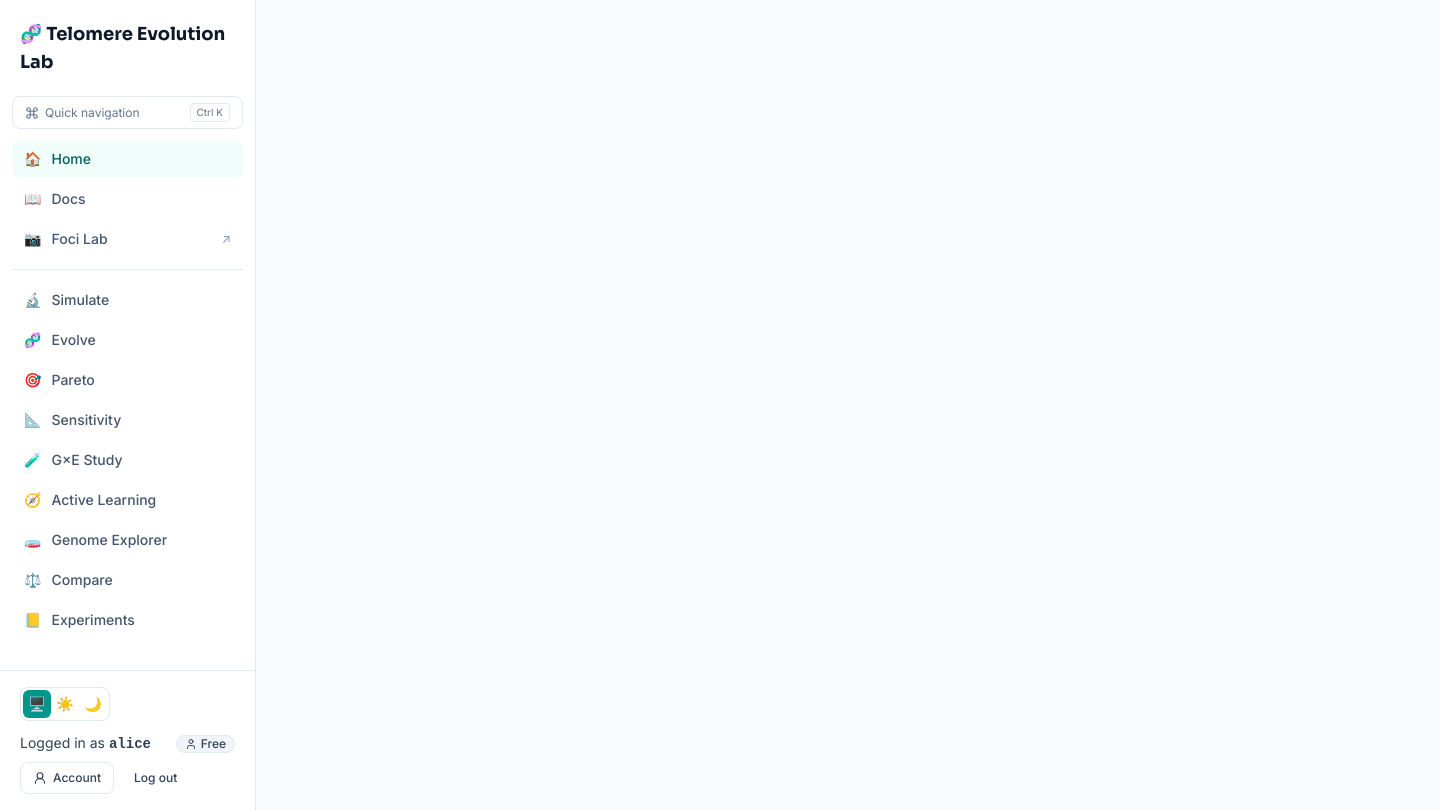
it: command palette › does not list admin entries for ordinary users
The image size is (1440, 810).
Expected: the link "Account" is shown, [20,762,114,794]
Press k
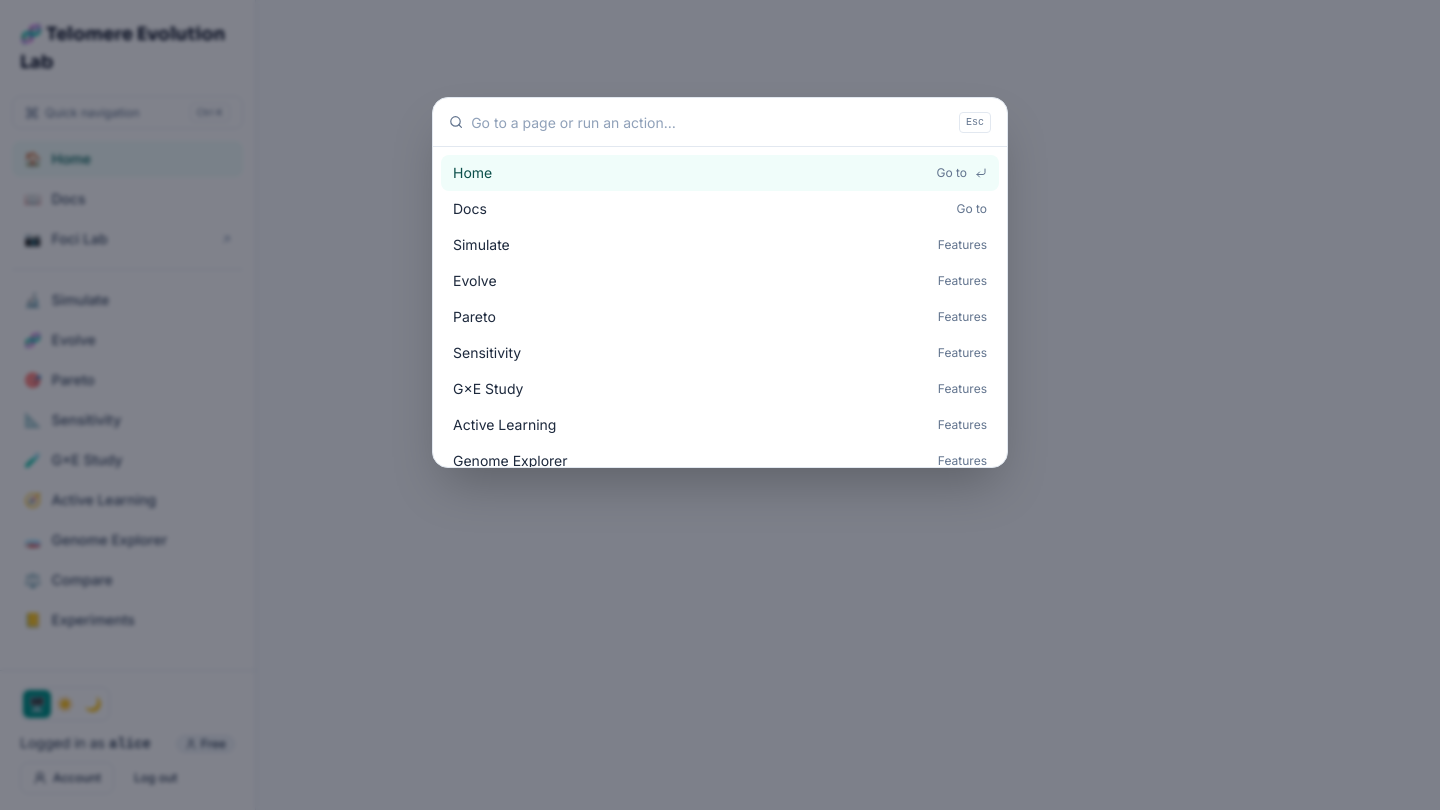
Type "admin" into the dropdown at (711, 122), box [471,98,951,146]
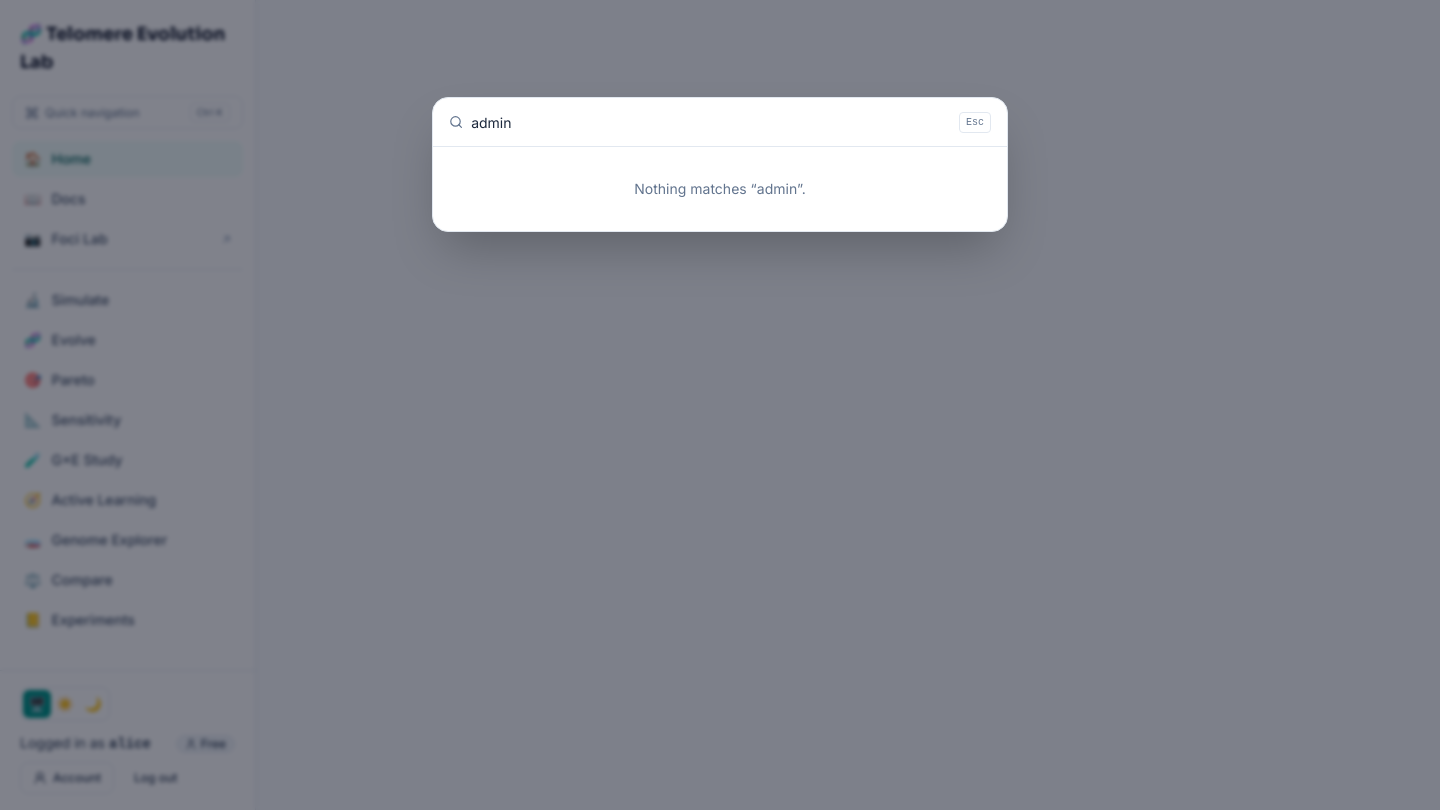
Expected: no options are shown
